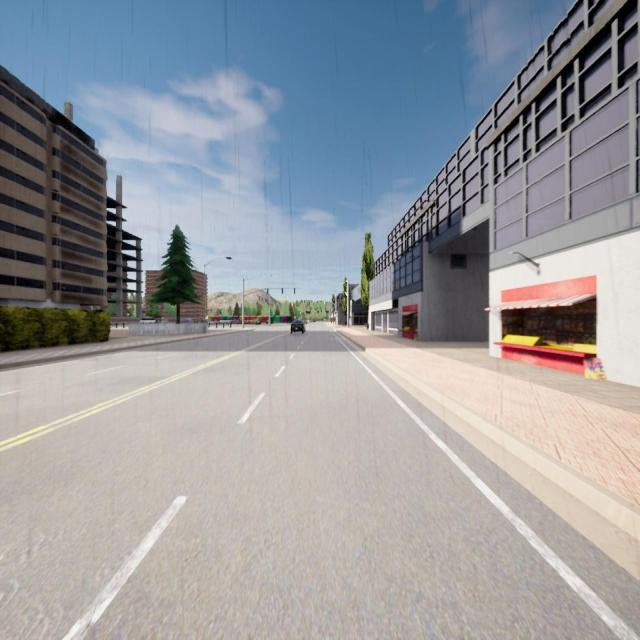Vehicle: (290, 320, 306, 334), (246, 318, 260, 325), (219, 318, 232, 324), (208, 320, 218, 326), (266, 319, 274, 324)
traffic_light: (282, 288, 283, 294), (294, 288, 295, 294), (267, 289, 268, 294)
